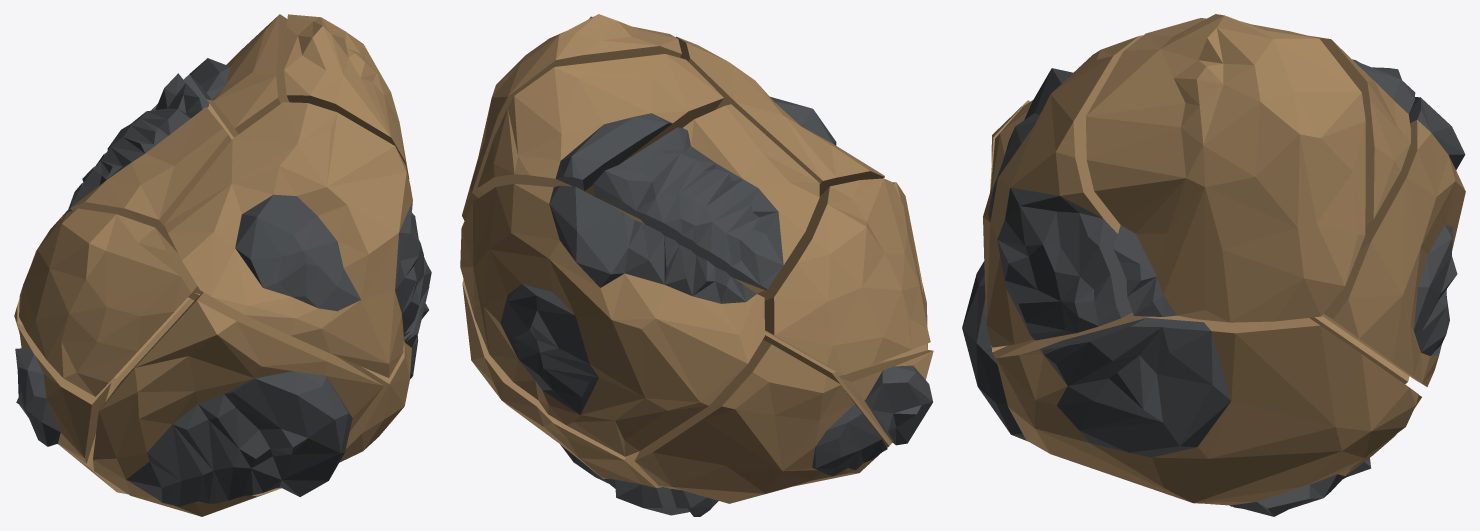
The model's file is SM_LP_FossilNode_4_Pieces.fbx.
3 renders of one model, left to right at view 1: azimuth 30°, elevation 25°; view 2: azimuth 150°, elevation 25°; view 3: azimuth 270°, elevation 25°, orthographic. The views are drawn at different scales.
Visible parts, largest first — view 1: SM_LP_FossilNode_4_Pieces_7, SM_LP_FossilNode_4_Pieces_4, SM_LP_FossilNode_4_Pieces_2, SM_LP_FossilNode_4_Pieces_5, SM_LP_FossilNode_4_Pieces_10, SM_LP_FossilNode_4_Pieces_8, SM_LP_FossilNode_4_Pieces_1, SM_LP_FossilNode_4_Pieces_9, SM_LP_FossilNode_4_Pieces_3, SM_LP_FossilNode_4_Pieces_6; view 2: SM_LP_FossilNode_4_Pieces_6, SM_LP_FossilNode_4_Pieces_5, SM_LP_FossilNode_4_Pieces_3, SM_LP_FossilNode_4_Pieces_2, SM_LP_FossilNode_4_Pieces_8, SM_LP_FossilNode_4_Pieces_7, SM_LP_FossilNode_4_Pieces_10, SM_LP_FossilNode_4_Pieces_9, SM_LP_FossilNode_4_Pieces_1, SM_LP_FossilNode_4_Pieces_4; view 3: SM_LP_FossilNode_4_Pieces_10, SM_LP_FossilNode_4_Pieces_9, SM_LP_FossilNode_4_Pieces_7, SM_LP_FossilNode_4_Pieces_6, SM_LP_FossilNode_4_Pieces_8, SM_LP_FossilNode_4_Pieces_4, SM_LP_FossilNode_4_Pieces_3.
Boxes of the visible parts, x1,y1,x2,y2 form: SM_LP_FossilNode_4_Pieces_7: [164, 102, 431, 377]; SM_LP_FossilNode_4_Pieces_4: [93, 292, 383, 516]; SM_LP_FossilNode_4_Pieces_2: [19, 208, 197, 396]; SM_LP_FossilNode_4_Pieces_5: [64, 73, 231, 294]; SM_LP_FossilNode_4_Pieces_10: [284, 14, 409, 178]; SM_LP_FossilNode_4_Pieces_8: [189, 14, 288, 137]; SM_LP_FossilNode_4_Pieces_1: [15, 328, 111, 463]; SM_LP_FossilNode_4_Pieces_9: [336, 287, 429, 462]; SM_LP_FossilNode_4_Pieces_3: [14, 250, 194, 494]; SM_LP_FossilNode_4_Pieces_6: [37, 75, 233, 300]; SM_LP_FossilNode_4_Pieces_6: [460, 184, 764, 456]; SM_LP_FossilNode_4_Pieces_5: [593, 104, 819, 293]; SM_LP_FossilNode_4_Pieces_3: [635, 340, 887, 516]; SM_LP_FossilNode_4_Pieces_2: [757, 178, 930, 374]; SM_LP_FossilNode_4_Pieces_8: [477, 54, 723, 196]; SM_LP_FossilNode_4_Pieces_7: [676, 36, 884, 196]; SM_LP_FossilNode_4_Pieces_10: [462, 14, 681, 220]; SM_LP_FossilNode_4_Pieces_9: [462, 279, 689, 515]; SM_LP_FossilNode_4_Pieces_1: [839, 350, 933, 445]; SM_LP_FossilNode_4_Pieces_4: [763, 182, 927, 447]; SM_LP_FossilNode_4_Pieces_10: [1086, 14, 1365, 322]; SM_LP_FossilNode_4_Pieces_9: [996, 312, 1421, 516]; SM_LP_FossilNode_4_Pieces_7: [983, 35, 1142, 347]; SM_LP_FossilNode_4_Pieces_6: [1322, 97, 1465, 386]; SM_LP_FossilNode_4_Pieces_8: [1310, 36, 1415, 225]; SM_LP_FossilNode_4_Pieces_4: [962, 100, 1035, 441]; SM_LP_FossilNode_4_Pieces_3: [1310, 316, 1409, 384].
Bounding box in the file's own units: 0.8881 × 0.9146 × 0.7843.
